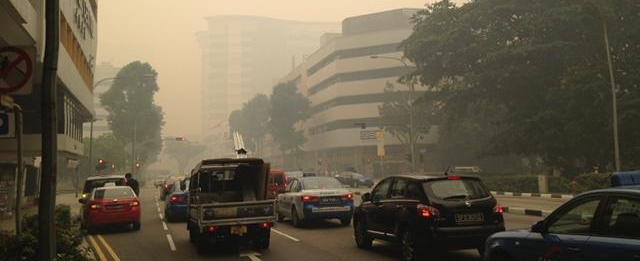bus: (182, 154, 275, 256)
car: (350, 165, 506, 261), (481, 170, 640, 260), (273, 171, 355, 228), (77, 182, 142, 232), (78, 174, 131, 226), (164, 177, 218, 222), (247, 166, 289, 219), (158, 174, 197, 208), (122, 172, 141, 226), (452, 164, 486, 190), (333, 168, 374, 188)
